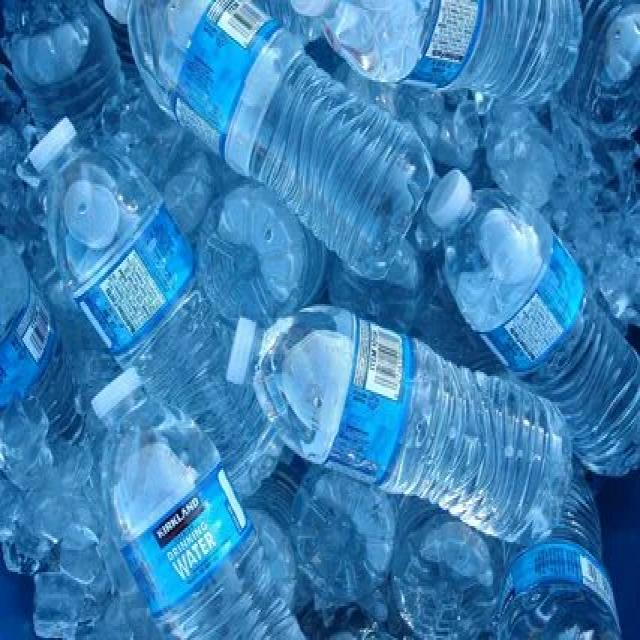blue: (446, 190, 640, 480)
